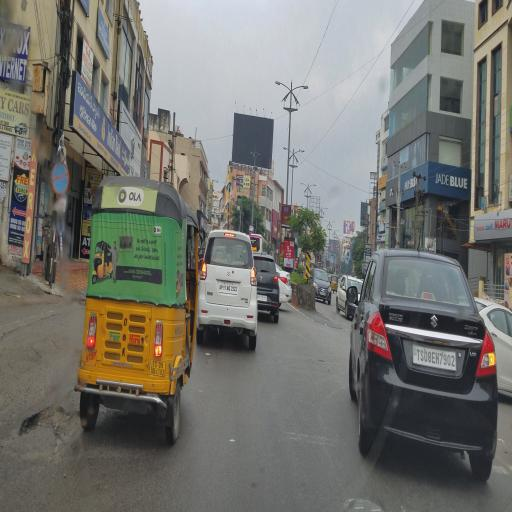street_light_0: (290, 75, 312, 109), (269, 71, 290, 105), (291, 143, 308, 165), (278, 140, 294, 162), (295, 175, 307, 193), (307, 176, 318, 194)
